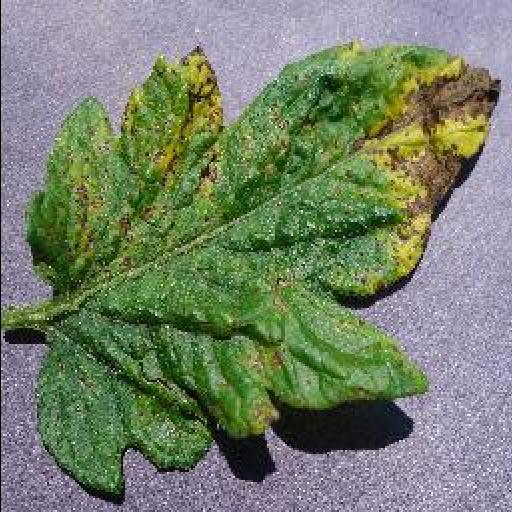disease_tomato: (29, 40, 503, 494)
